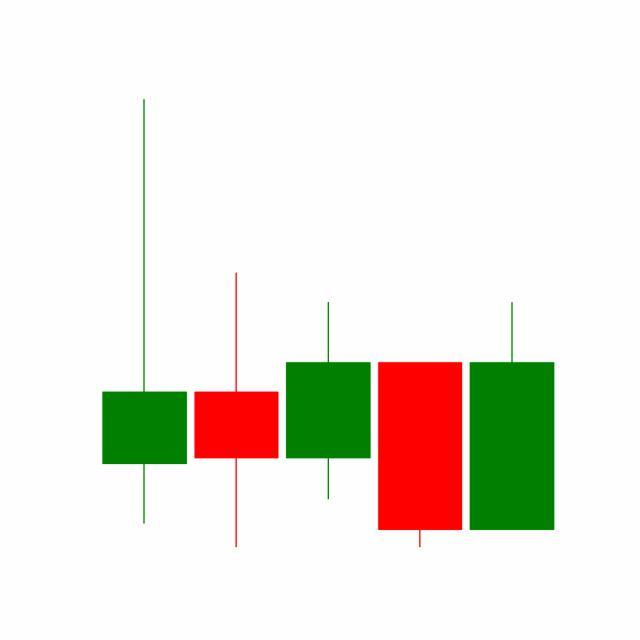Marubozu: (374, 360, 468, 550)
